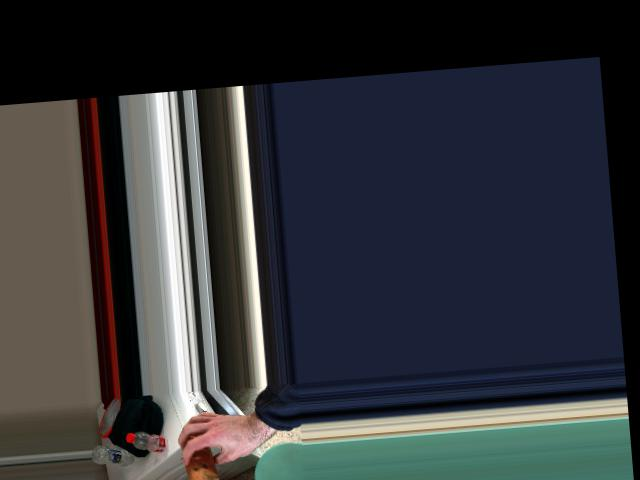sweet_potato: (187, 439, 212, 480)
